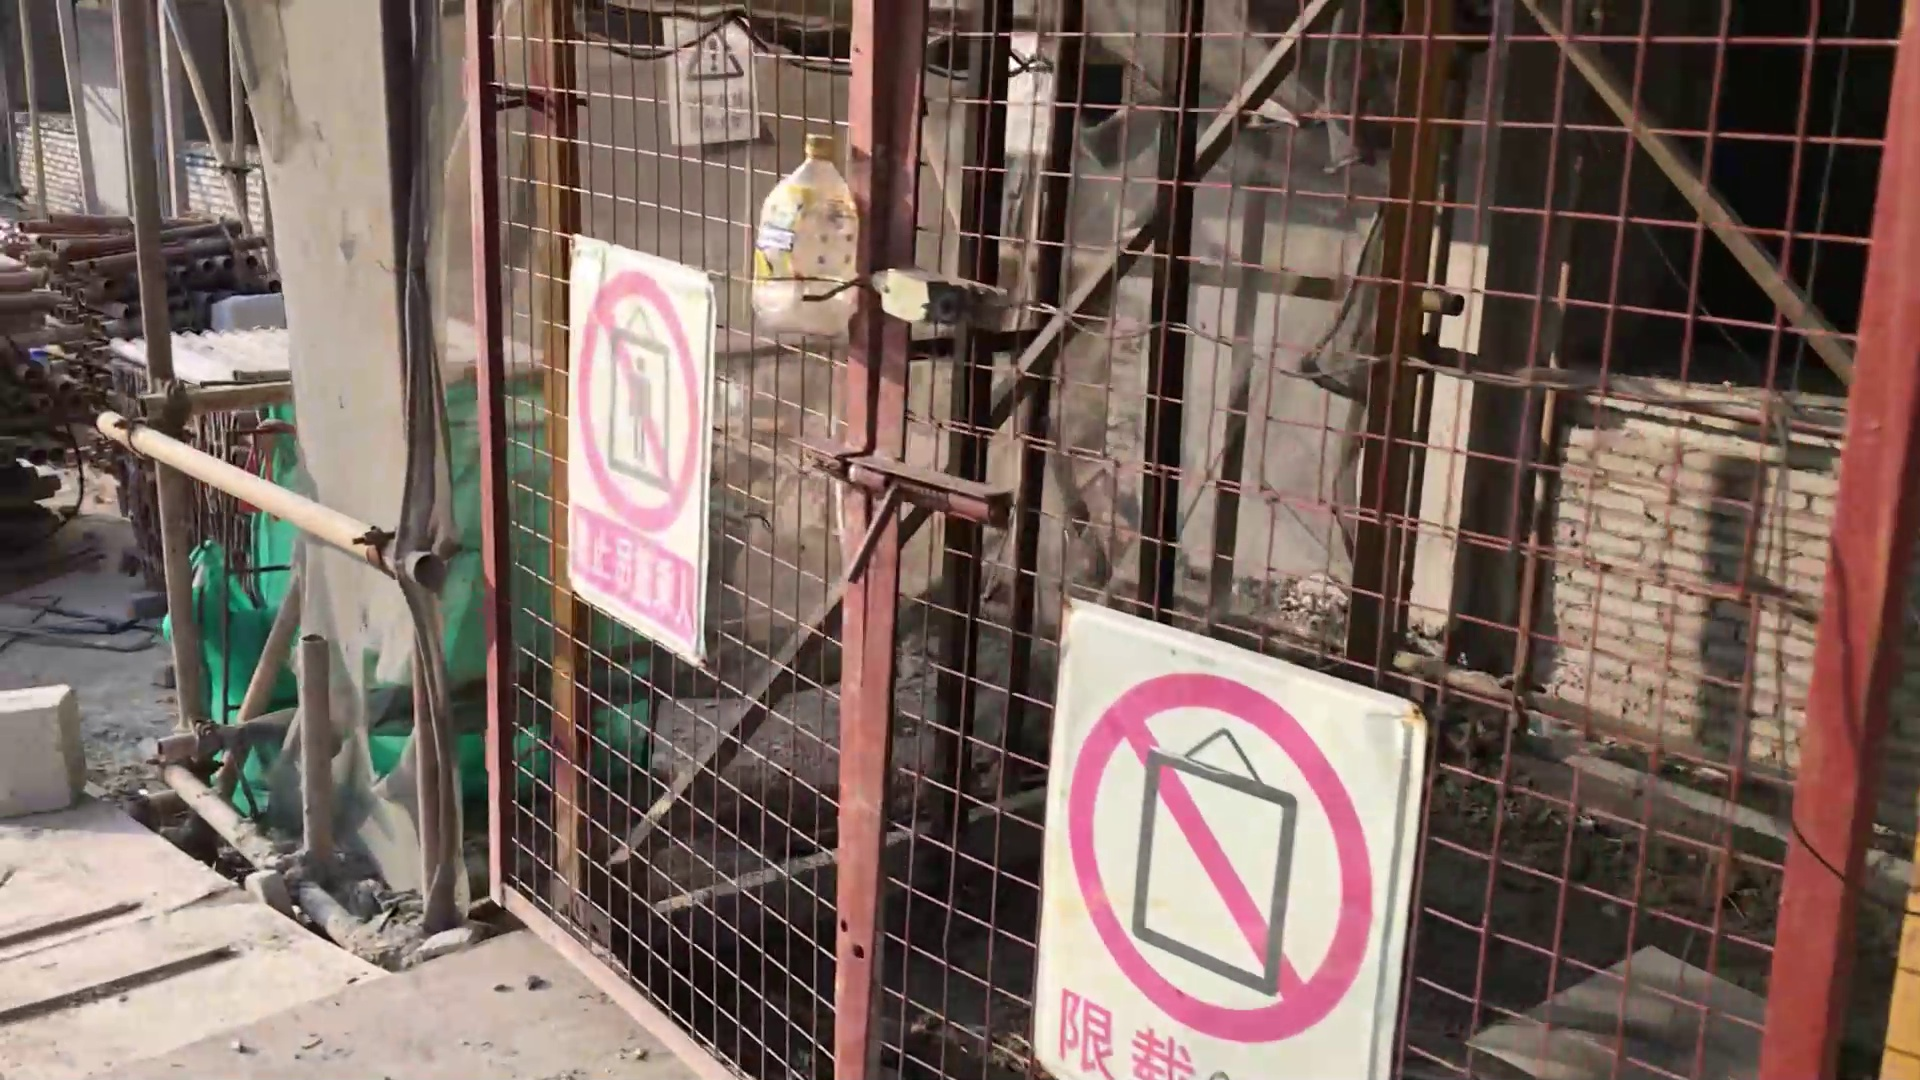scaffold: (3, 212, 255, 601)
slogan: (1033, 600, 1416, 1080), (560, 233, 715, 673), (666, 11, 766, 142)
